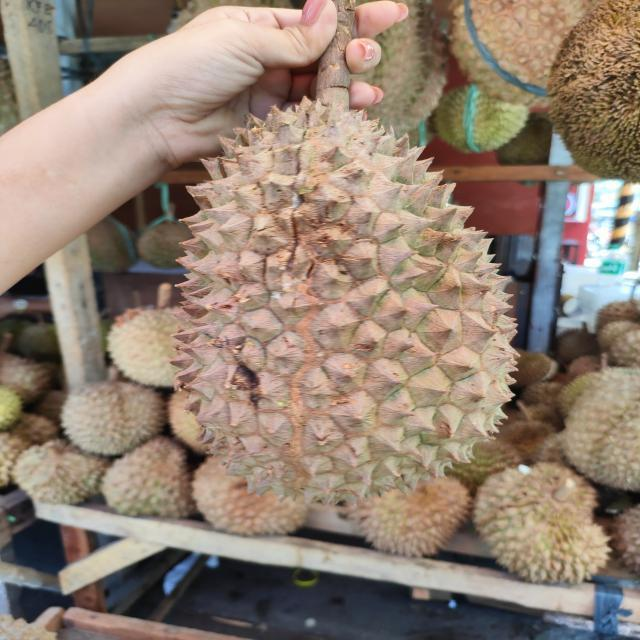mature: (168, 93, 518, 504)
